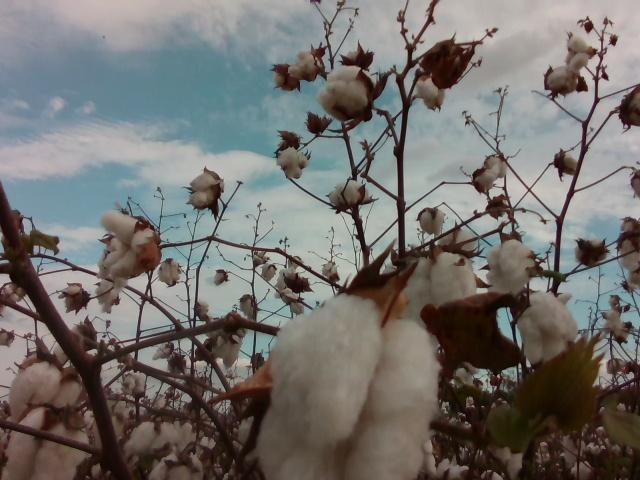cotton_ready: (255, 293, 443, 480), (400, 252, 476, 350), (0, 408, 90, 480), (10, 361, 83, 426), (517, 291, 579, 362), (99, 210, 154, 278), (317, 65, 376, 120), (486, 240, 536, 296), (123, 420, 182, 454), (148, 451, 205, 480), (189, 172, 224, 209), (327, 179, 370, 208), (210, 334, 243, 370), (417, 71, 446, 110), (275, 146, 309, 179), (440, 230, 479, 256), (288, 50, 322, 79), (565, 34, 589, 71), (545, 67, 579, 92), (419, 208, 445, 234), (627, 91, 640, 125)
